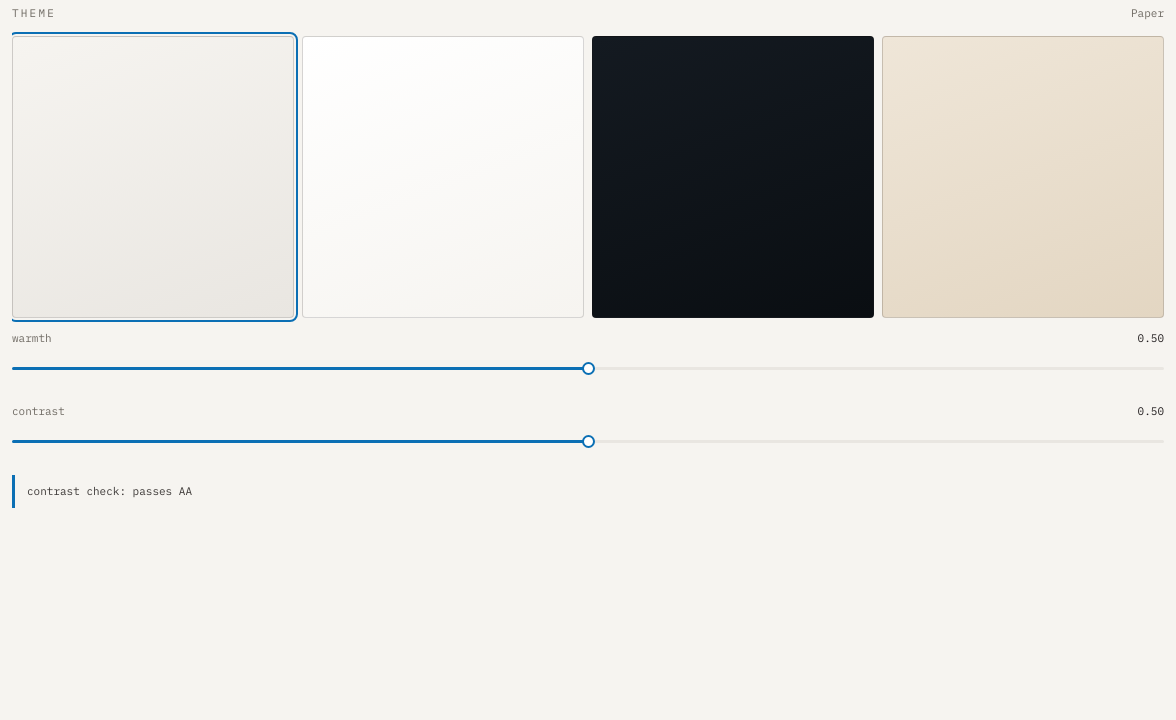
it: ThemePicker: the contrast note › follows the preview while a slider is still held
The image size is (1176, 720).
Set the slider labelled "contrast" to "0" at (20,441), box [12,419,1164,463]
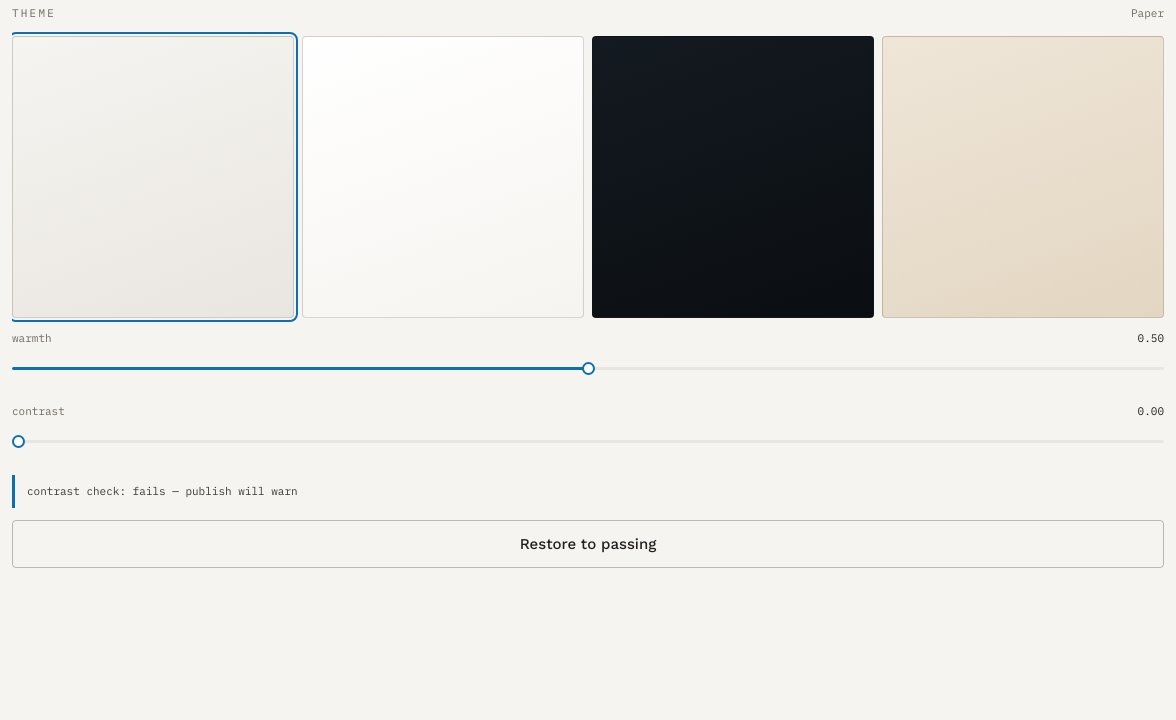
Result: the message shows "fails — publish will warn" at [27,484,298,498]
Set the slider labelled "contrast" to "0.5" at (588,441), box [12,419,1164,463]
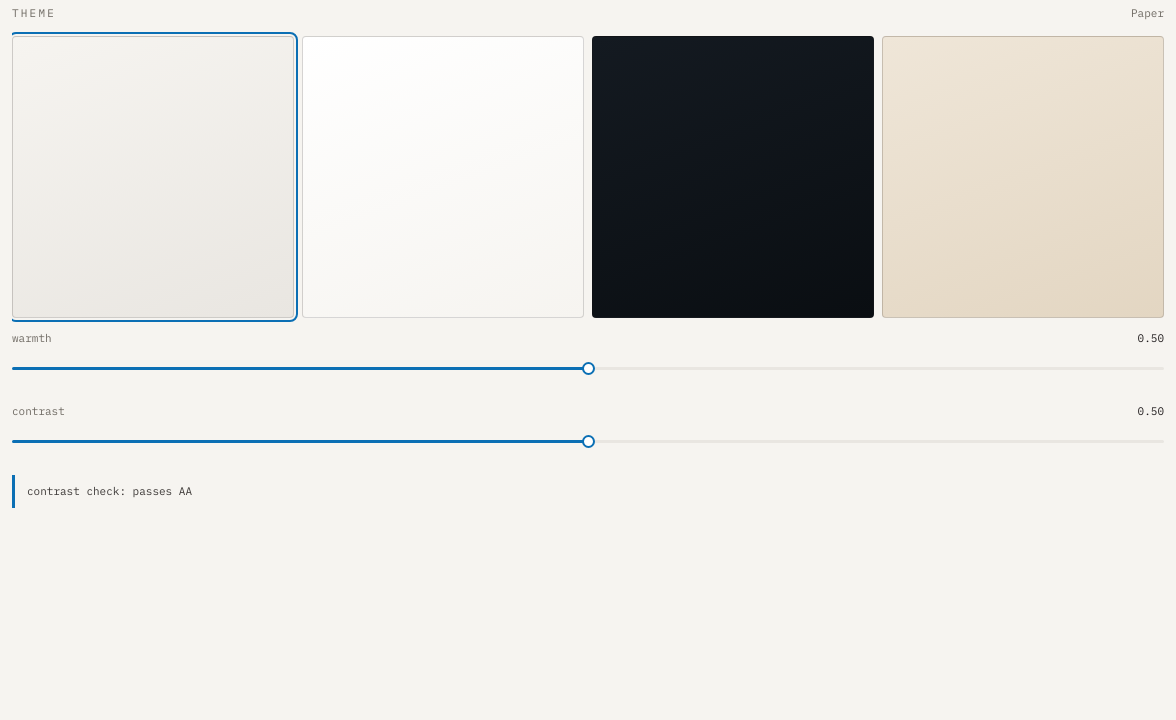
Result: the message reads "contrast check: passes AA" at [27,484,192,498]
